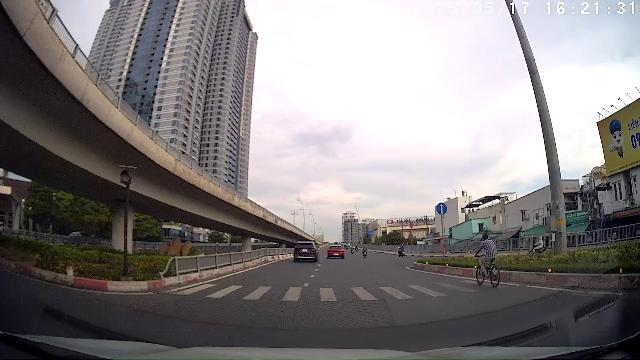301a-cac-xe-chi-duoc-di-thang: (437, 202, 448, 216)
